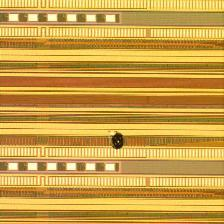PARTICLE: (108, 132, 128, 152)
